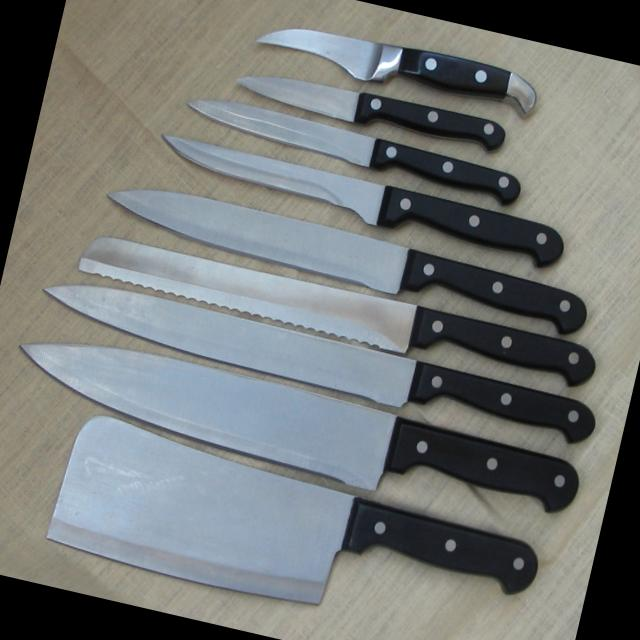Weapon: (0, 319, 585, 537), (35, 403, 549, 640), (19, 269, 600, 452), (70, 226, 598, 392), (86, 172, 603, 340), (150, 128, 570, 272), (169, 89, 534, 208), (241, 0, 553, 124), (219, 55, 507, 159)
